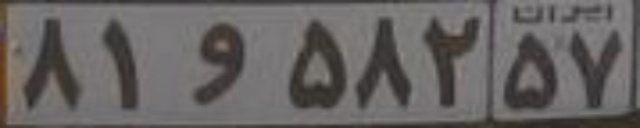1: (102, 17, 138, 110)
2: (423, 14, 477, 106)
5: (285, 19, 345, 110), (500, 31, 559, 109)
7: (566, 28, 626, 108)
8: (17, 14, 82, 108), (353, 15, 415, 110)
vav: (186, 20, 250, 104)
